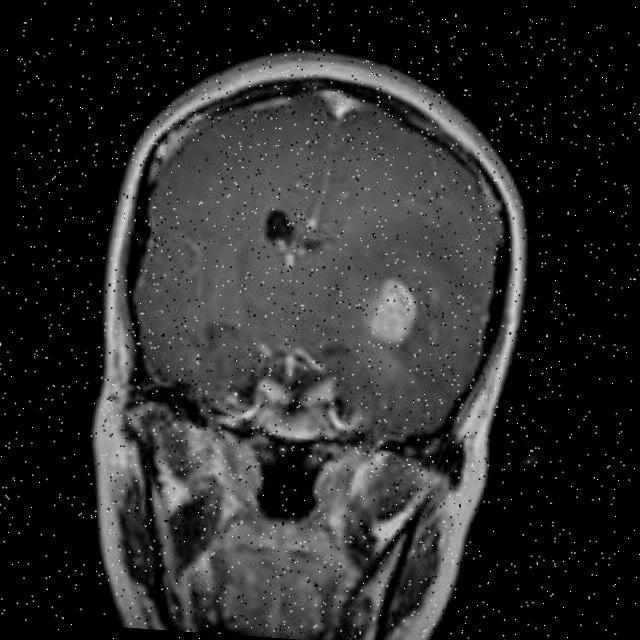EMCI: (284, 242, 482, 380)
